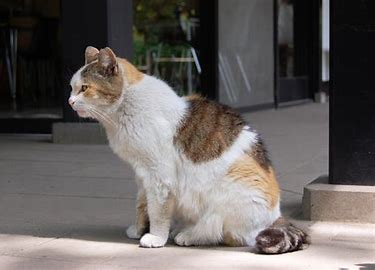cat: (55, 42, 311, 256)
